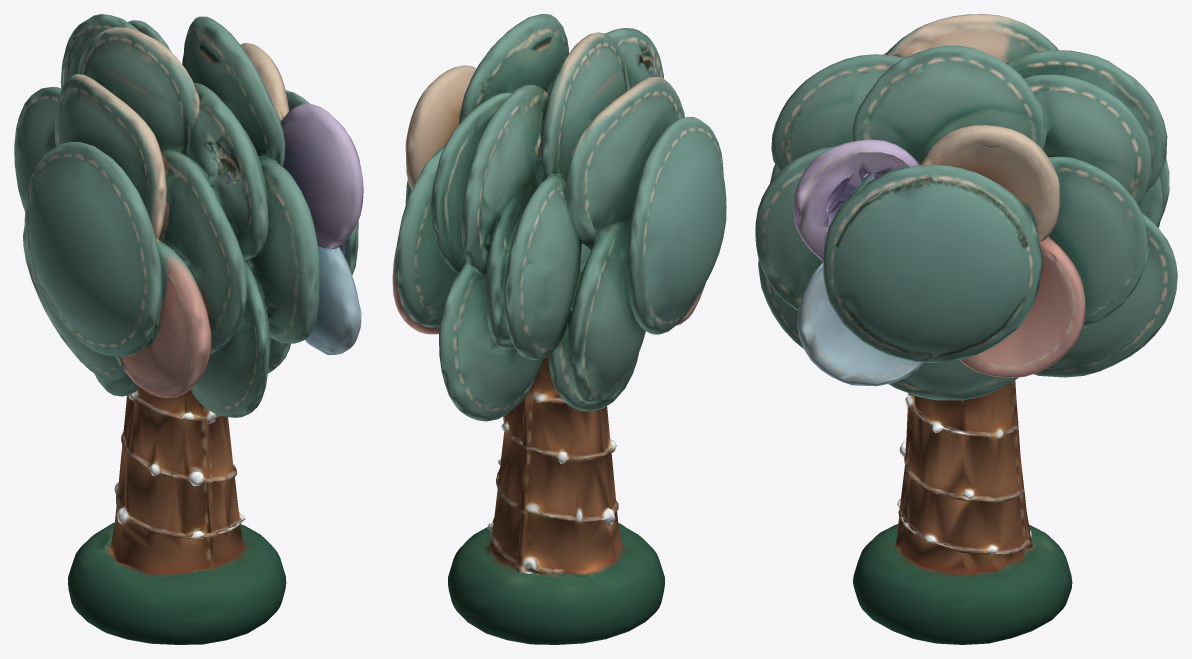
The picture shows the model from 3 angles, left to right: view 1: azimuth 30°, elevation 25°; view 2: azimuth 150°, elevation 25°; view 3: azimuth 270°, elevation 25°; orthographic projection.
Parts seen in each view (by area): view 1: repaired; view 2: repaired; view 3: repaired.
Boxes of the visible parts, x1,y1,x2,y2 form: repaired: [14, 14, 363, 644]; repaired: [392, 14, 726, 644]; repaired: [755, 14, 1177, 644].
Size of the model in its own units: 0.4976 by 0.9998 by 0.6653.
Materials: 1 (1 with a texture image).
